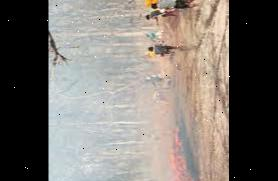fire: (165, 128, 193, 181)
